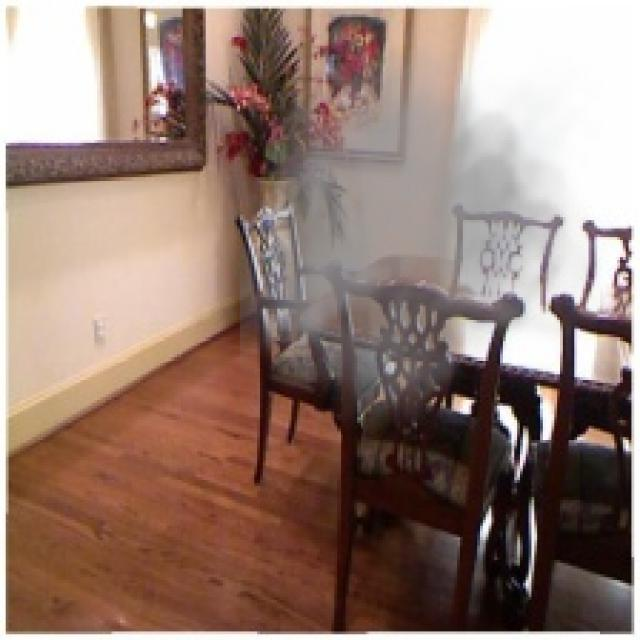smoke: (240, 29, 609, 440)
